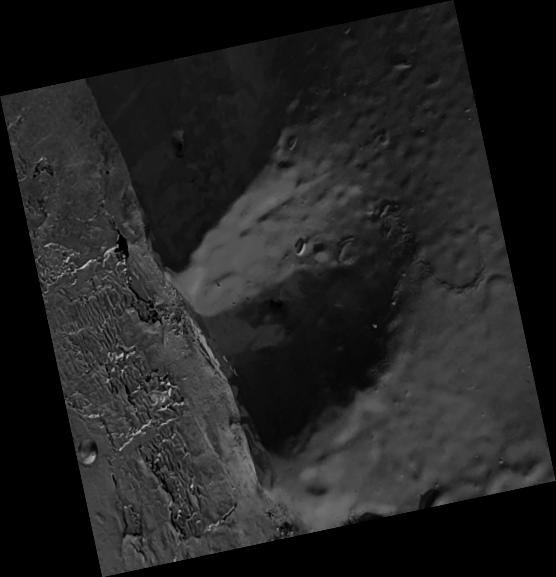dent: (1, 0, 556, 577)
